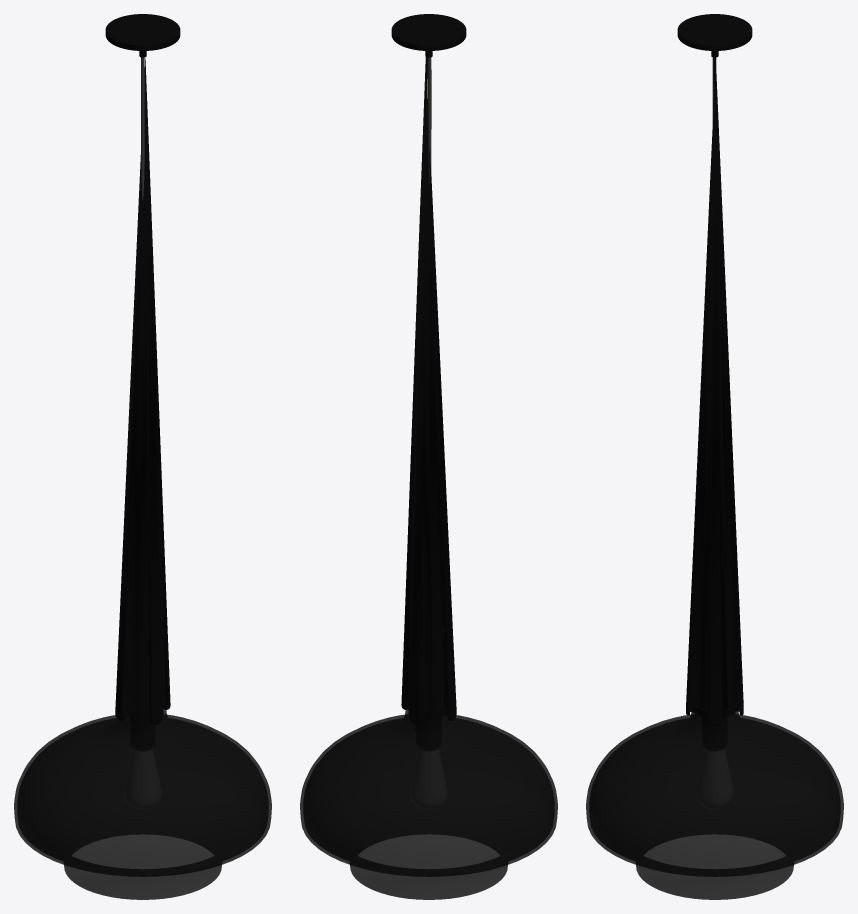
The model's file is models_114_13_fbx_brown_glass_hanging_lamp.fbx.
3 renders of one model, left to right at view 1: azimuth 30°, elevation 25°; view 2: azimuth 150°, elevation 25°; view 3: azimuth 270°, elevation 25°, orthographic.
Visible parts, largest first — view 1: cgaxis_models_114_13_06, cgaxis_models_114_13_05, cgaxis_models_114_13_02, cgaxis_models_114_13_04; view 2: cgaxis_models_114_13_06, cgaxis_models_114_13_05, cgaxis_models_114_13_02; view 3: cgaxis_models_114_13_06, cgaxis_models_114_13_05, cgaxis_models_114_13_02.
Part boxes in pixels (bbox=[...]): cgaxis_models_114_13_06: bbox=[14, 698, 271, 899]; cgaxis_models_114_13_05: bbox=[105, 14, 180, 748]; cgaxis_models_114_13_02: bbox=[125, 749, 160, 808]; cgaxis_models_114_13_04: bbox=[141, 57, 144, 200]; cgaxis_models_114_13_06: bbox=[300, 701, 557, 899]; cgaxis_models_114_13_05: bbox=[391, 14, 466, 748]; cgaxis_models_114_13_02: bbox=[411, 749, 446, 808]; cgaxis_models_114_13_06: bbox=[586, 703, 843, 899]; cgaxis_models_114_13_05: bbox=[677, 14, 752, 748]; cgaxis_models_114_13_02: bbox=[697, 749, 732, 808].
Bounding box in the file's own units: 16.29 × 58.33 × 16.29.
Materials: 6 (1 with a texture image).
